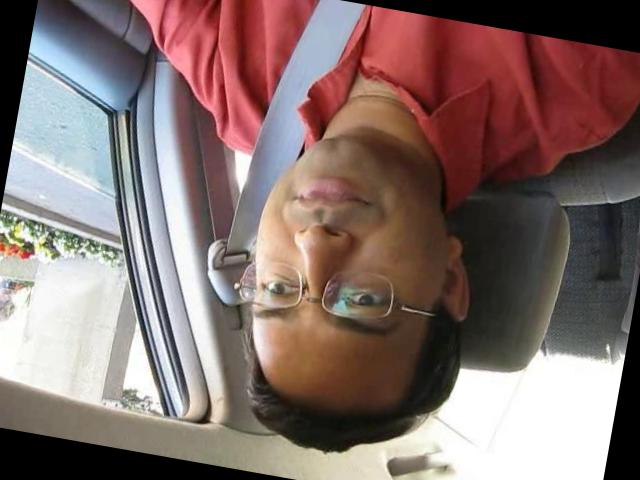eye_open: (331, 276, 397, 319), (255, 272, 303, 306)
face: (234, 123, 450, 364)
